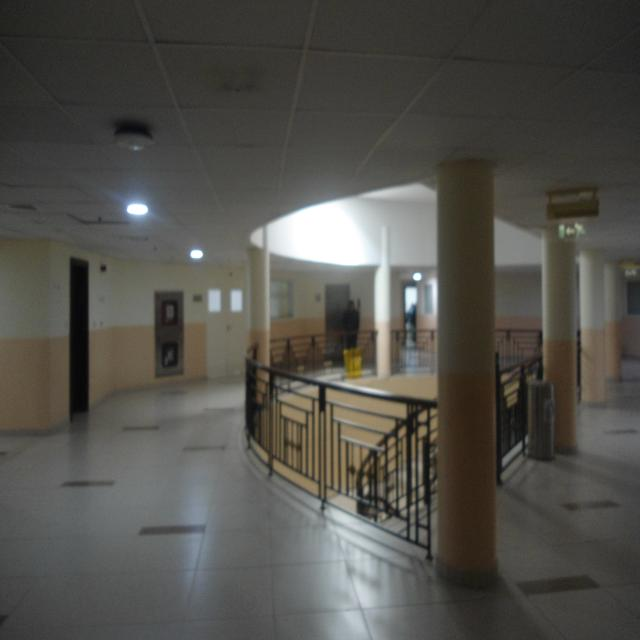door: (70, 258, 89, 418)
path: (0, 360, 640, 638)
railing: (245, 357, 438, 558), (495, 355, 542, 480), (270, 333, 345, 377), (392, 330, 438, 373), (495, 328, 542, 370), (359, 332, 376, 372)
